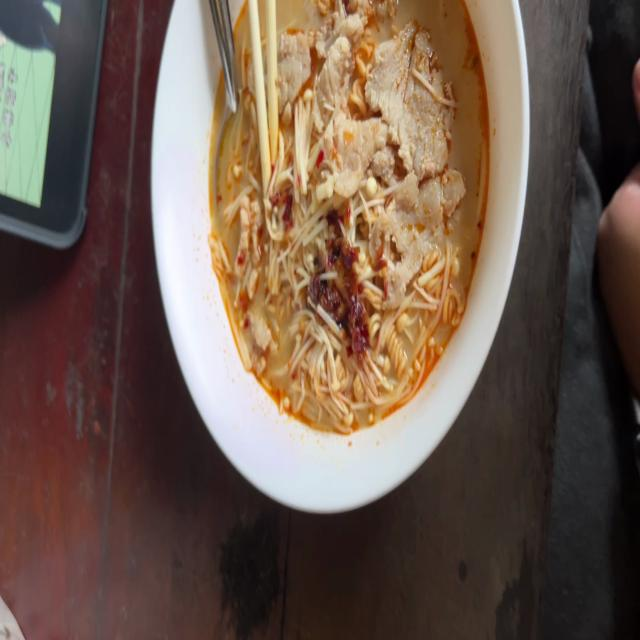noodle: (201, 0, 501, 440)
